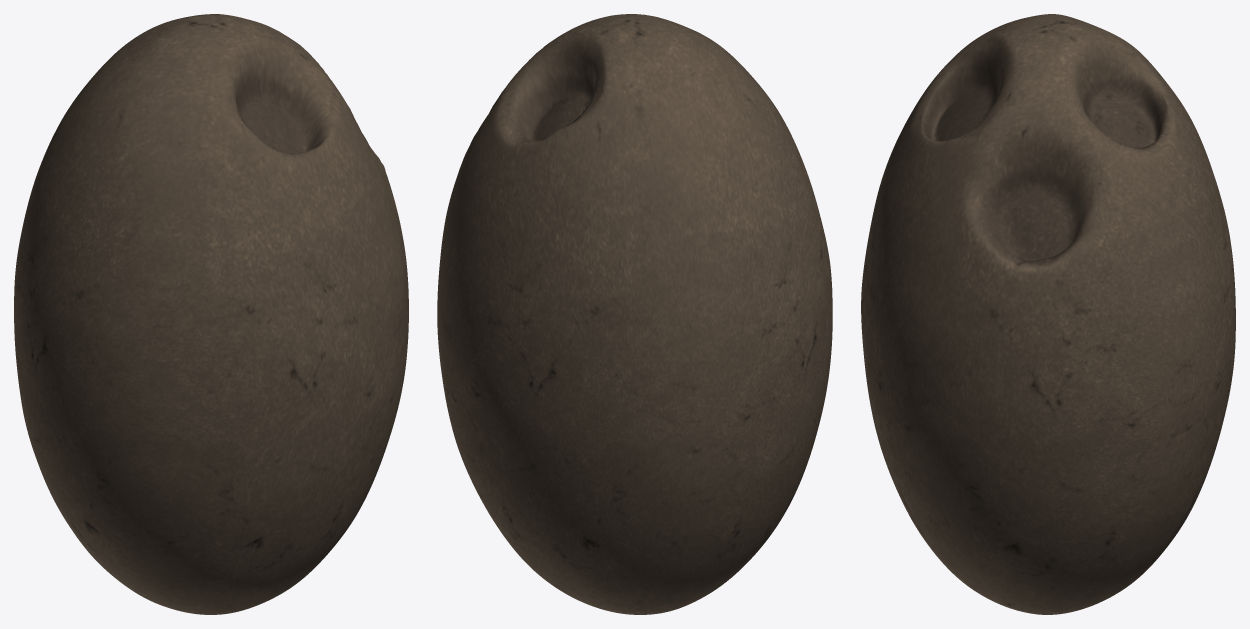
The model's file is textured use.obj.
The picture shows the model from 3 angles, left to right: view 1: azimuth 30°, elevation 25°; view 2: azimuth 150°, elevation 25°; view 3: azimuth 270°, elevation 25°; orthographic projection.
Parts seen in each view (by area): view 1: ZBrush_defualt_group; view 2: ZBrush_defualt_group; view 3: ZBrush_defualt_group.
Part boxes in pixels (box(x1,y1,x2,y2)): ZBrush_defualt_group: box(14, 14, 408, 614); ZBrush_defualt_group: box(437, 14, 832, 614); ZBrush_defualt_group: box(861, 14, 1235, 614).
Size of the model in its own units: 6.25 by 9.92 by 5.86.
1 material, 1 textured.
